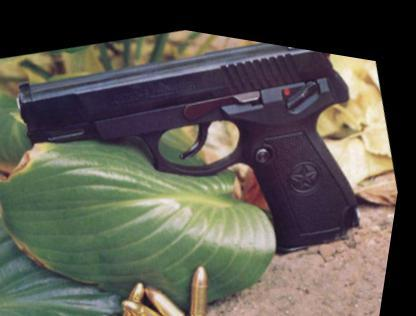pistol: (0, 2, 399, 313)
